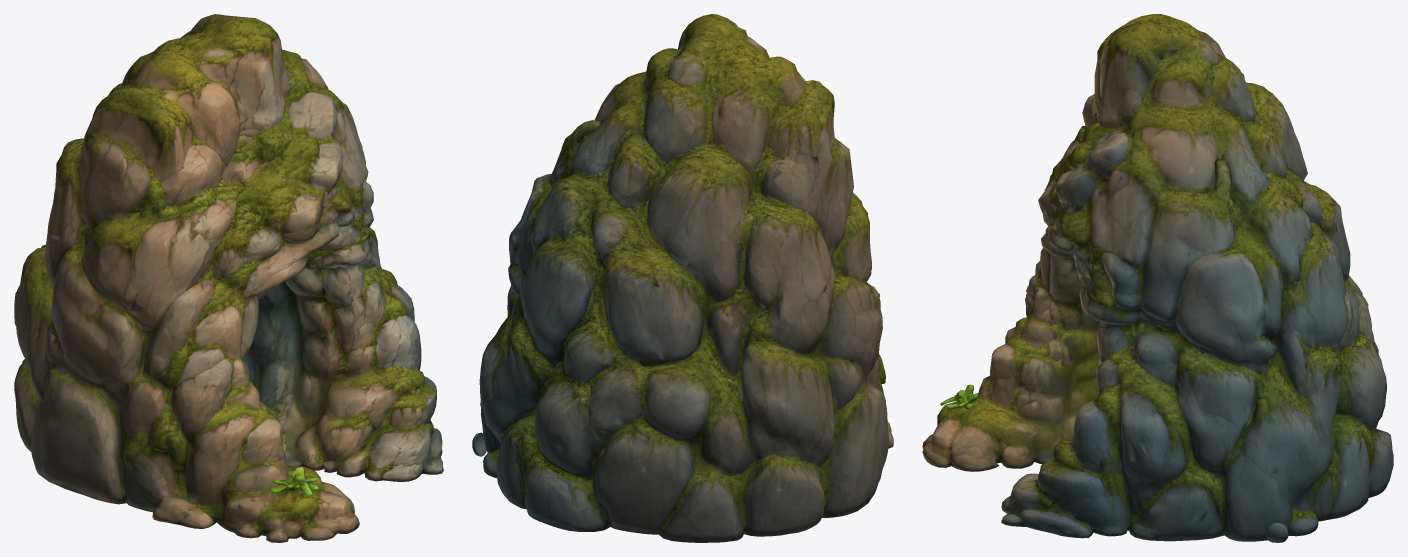
Rendered from cave_entrance.glb.
3 renders of one model, left to right at view 1: azimuth 30°, elevation 25°; view 2: azimuth 150°, elevation 25°; view 3: azimuth 270°, elevation 25°, orthographic.
Parts seen in each view (by area): view 1: tripo_node_a803c771-4592-4810-a682-c72c32186210; view 2: tripo_node_a803c771-4592-4810-a682-c72c32186210; view 3: tripo_node_a803c771-4592-4810-a682-c72c32186210.
Boxes of the visible parts, x1=… form: tripo_node_a803c771-4592-4810-a682-c72c32186210: x1=14, y1=14, x2=443, y2=542; tripo_node_a803c771-4592-4810-a682-c72c32186210: x1=472, y1=14, x2=893, y2=542; tripo_node_a803c771-4592-4810-a682-c72c32186210: x1=922, y1=14, x2=1393, y2=542.
Bounding box in the file's own units: 0.8375 × 0.9793 × 0.9601.
1 material, 1 textured.
